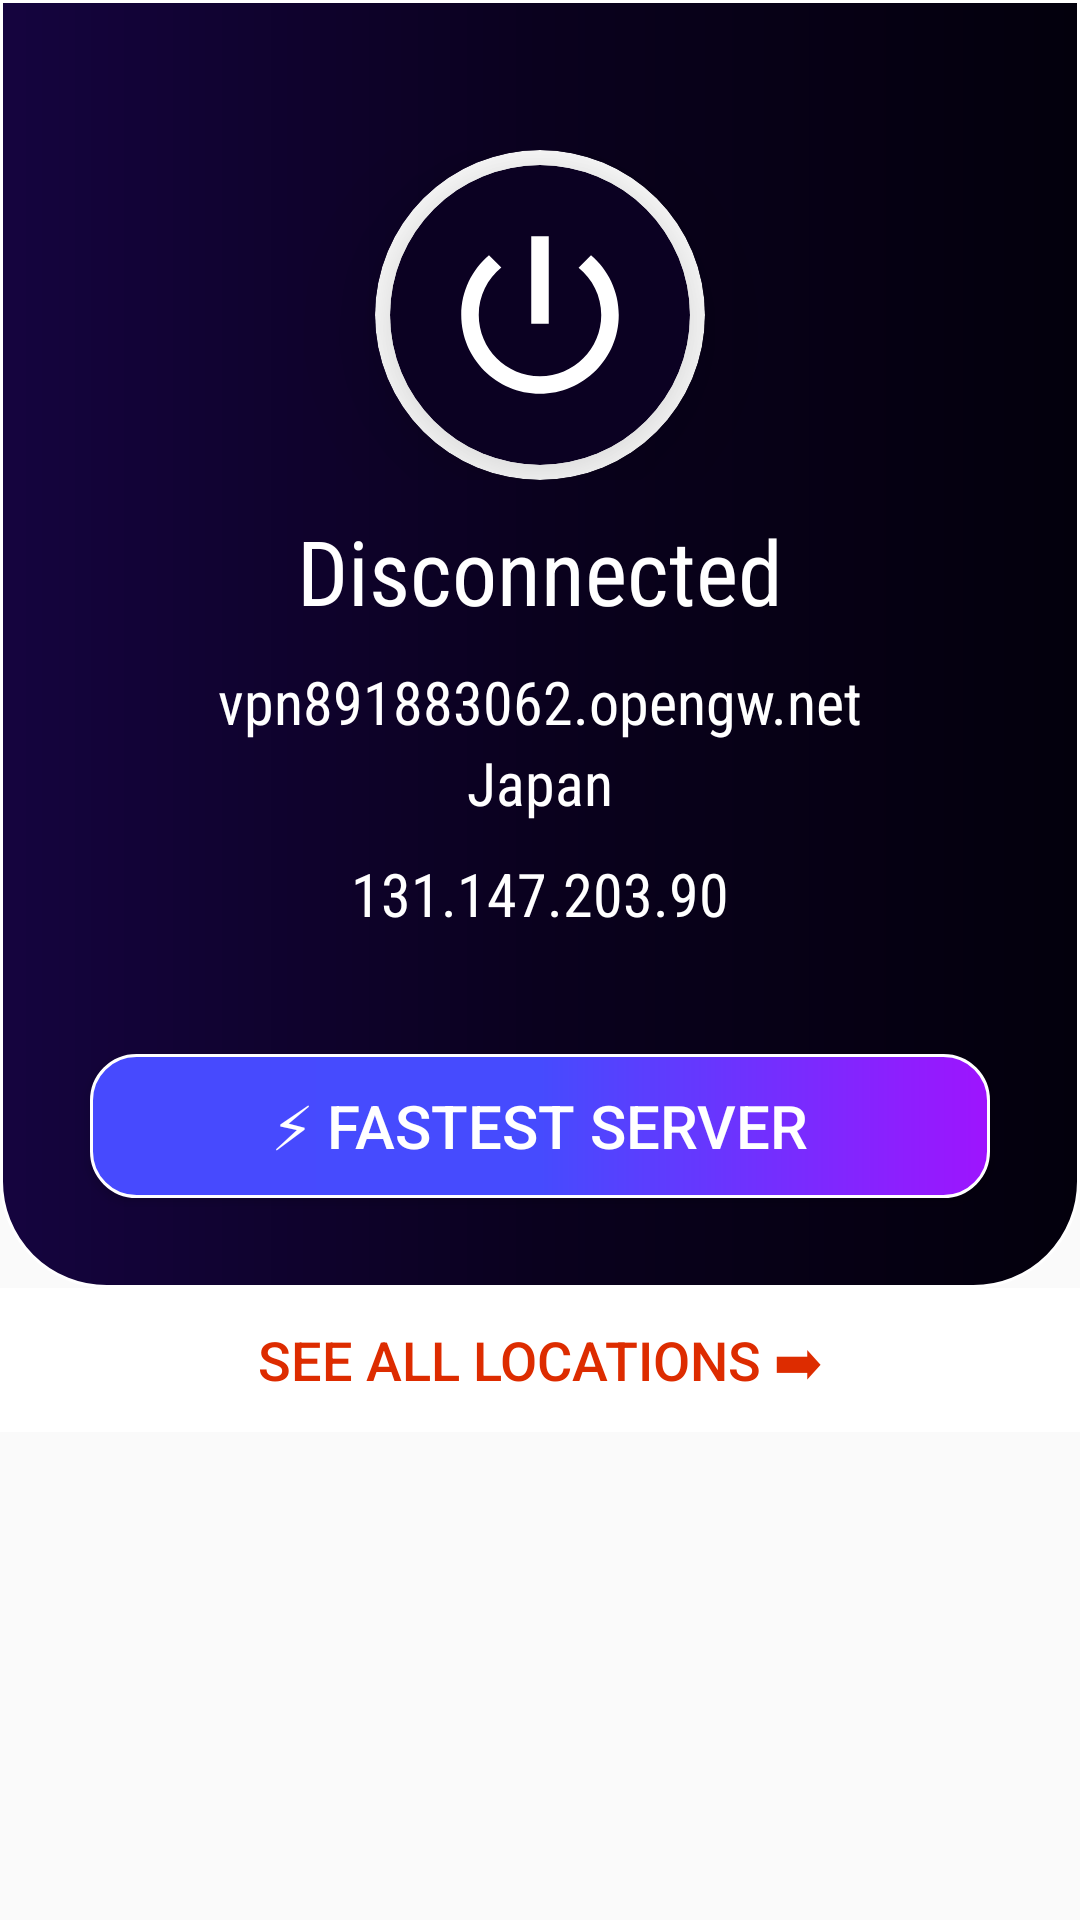

Where icons sit on this 1080*1920 app screen, as (x1, y1, x2, y2):
power: (461, 236, 619, 394)
